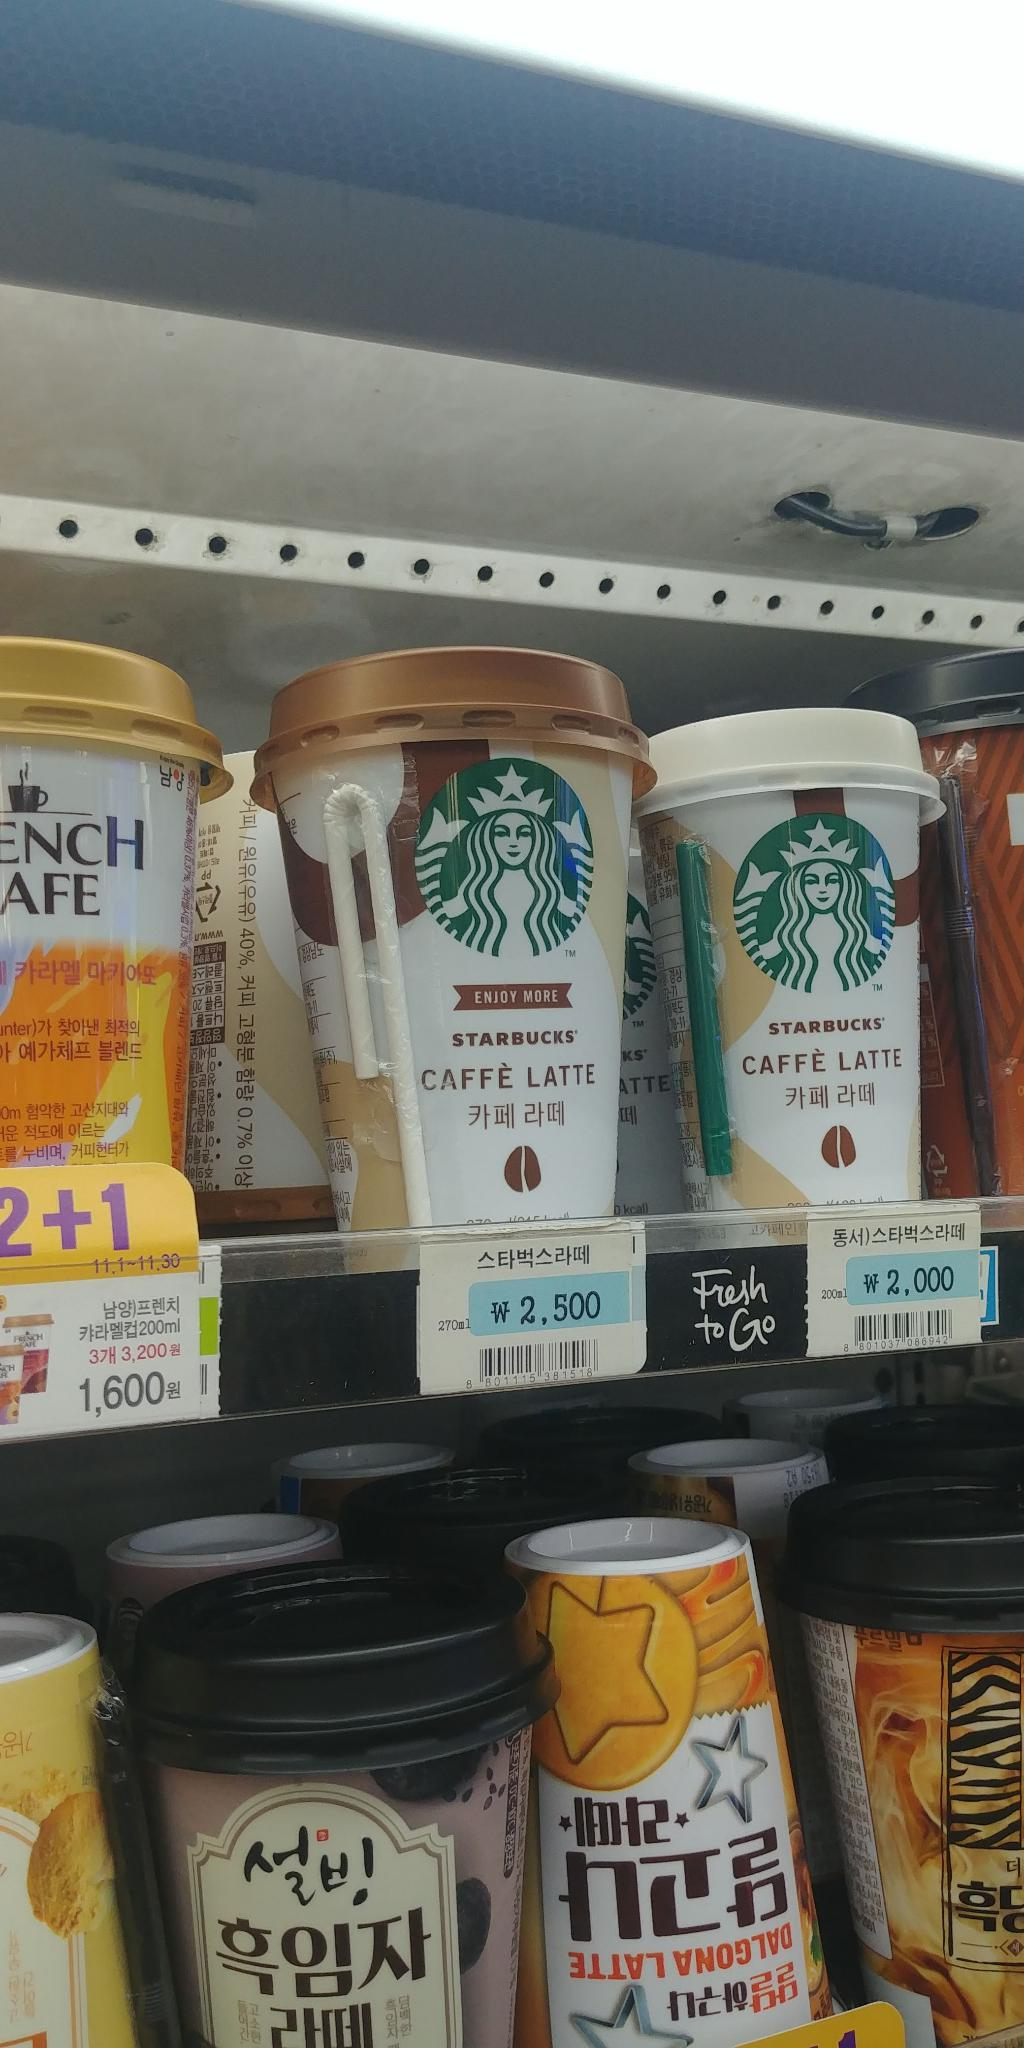starbucks_cafelatte: (247, 622, 654, 1294)
